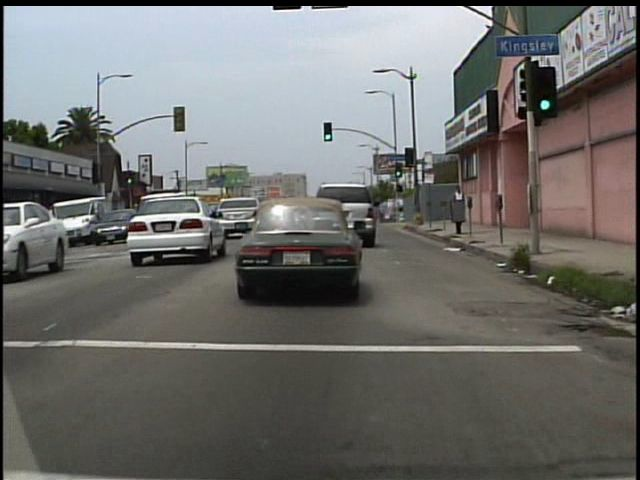person: (452, 185, 467, 227)
